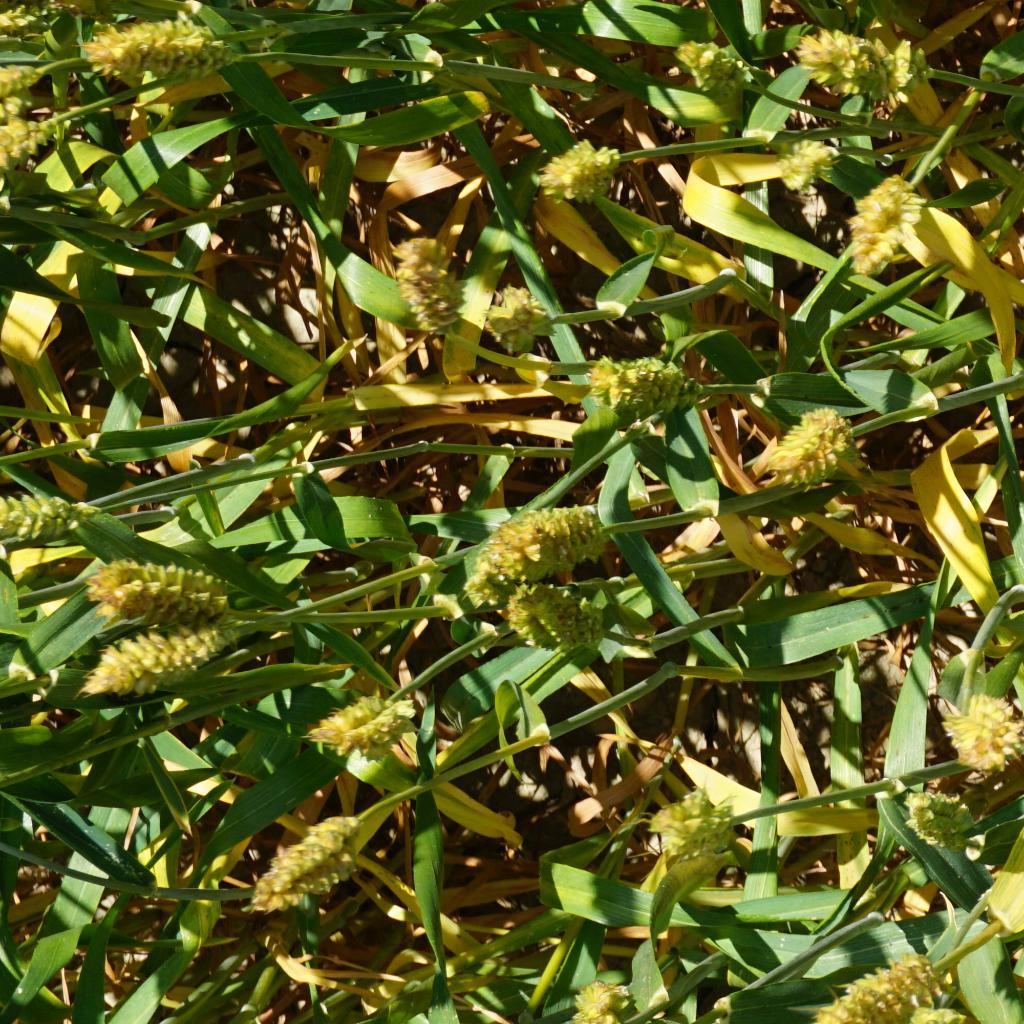0-0: (578, 337, 715, 431), (78, 10, 250, 80), (90, 565, 237, 630), (794, 32, 940, 96), (261, 827, 375, 903), (478, 506, 611, 566), (512, 587, 610, 668), (95, 634, 229, 693), (382, 232, 460, 330), (815, 955, 925, 1024), (934, 694, 1024, 778), (312, 690, 425, 754), (848, 167, 914, 273), (766, 396, 852, 476), (0, 485, 101, 543), (662, 32, 754, 94), (886, 780, 972, 839), (653, 790, 736, 848), (541, 135, 614, 193), (480, 290, 542, 351), (772, 135, 842, 188), (0, 118, 51, 168), (0, 59, 51, 103), (460, 567, 509, 608), (576, 979, 619, 1024), (911, 993, 960, 1024)
